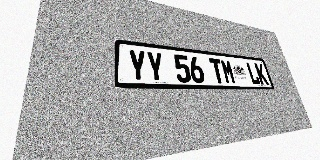5: (173, 54, 192, 83)
6: (188, 56, 205, 83)
K: (254, 63, 269, 85)
L: (245, 62, 261, 85)
M: (220, 59, 236, 84)
T: (209, 58, 226, 84)
Y: (127, 49, 148, 82), (146, 51, 165, 82)
